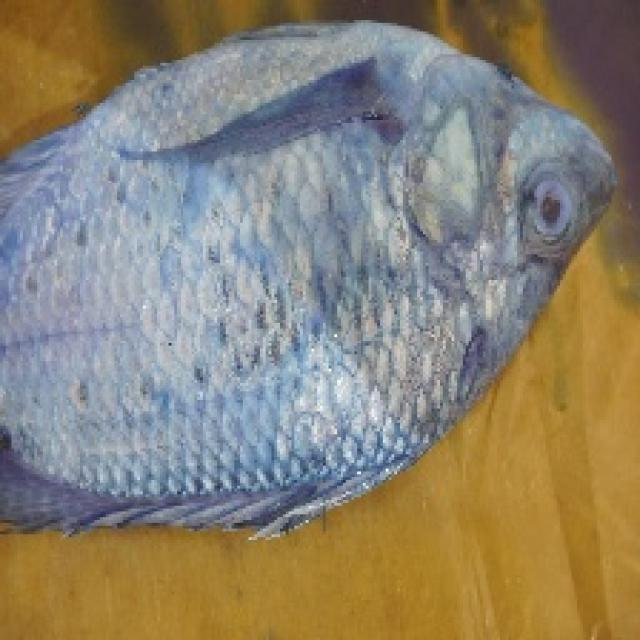Non-Fresh: (19, 30, 609, 525), (525, 166, 585, 252)
